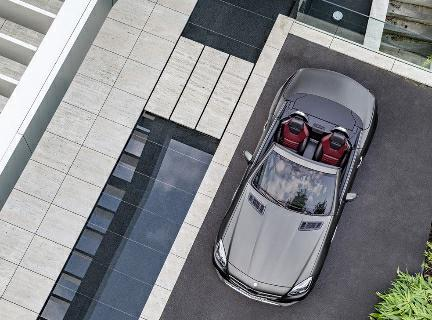奔驰-SLC: (206, 65, 382, 308)
